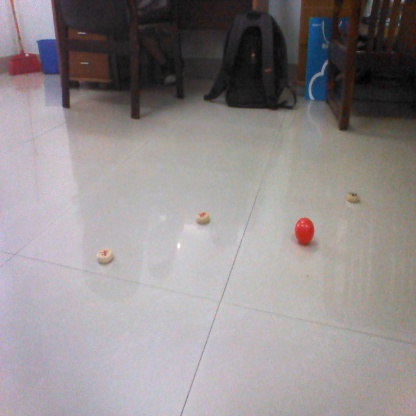ball: (294, 217, 314, 246)
chess: (94, 247, 115, 264), (196, 207, 211, 225), (345, 190, 361, 203)
